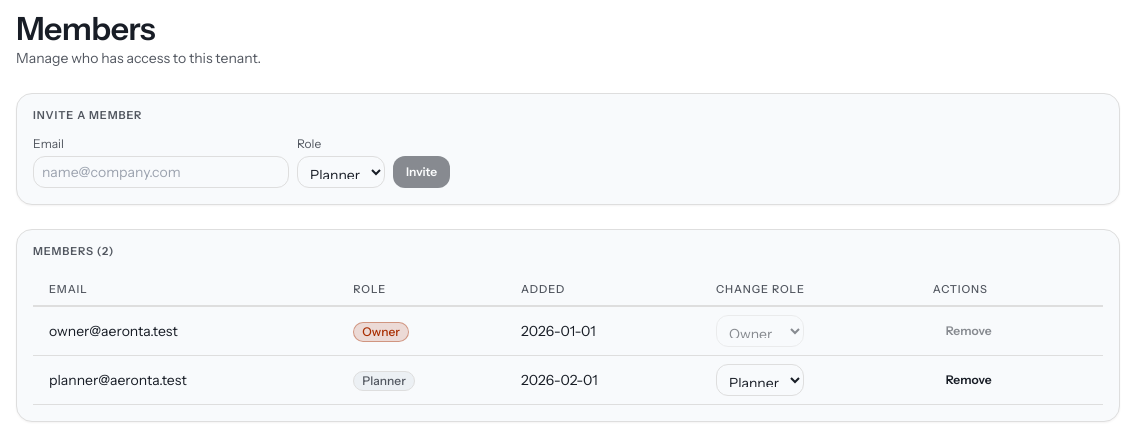
Test: Members › changing a row's role select PATCHes .../members/{user_id}
Expected: the text "planner@aeronta.test" is shown, [33,356,337,405]
Select "Admin" in the dropdown named "Role for planner@aeronta.test" at (760, 380), box [716,364,804,396]
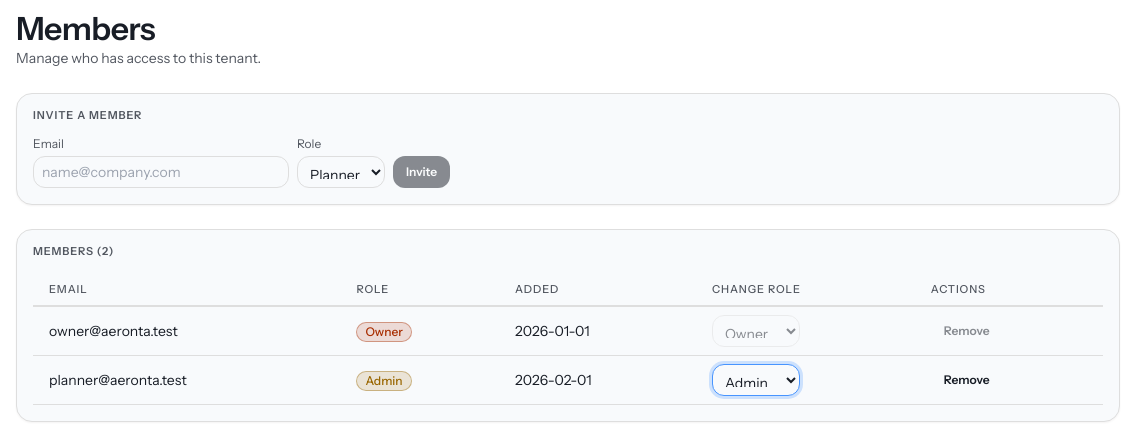
Expected: the text with test id "member-role-badge" reads "Admin", [365,373,403,388]
